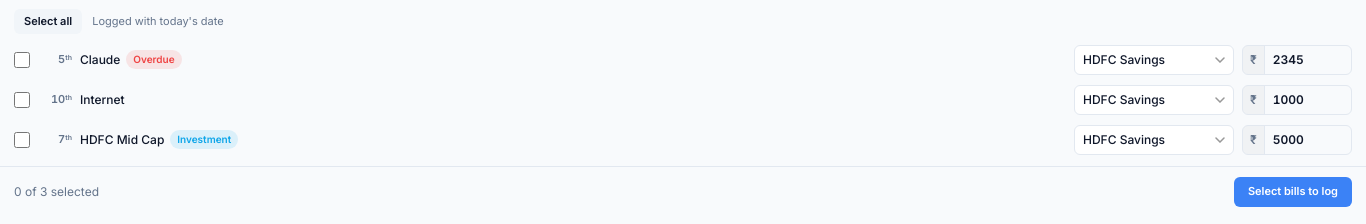
Test: BulkPayList › shows the selected count and total on the log button
The image size is (1366, 224).
Click the checkbox named "claude" at (22, 60), box [14,52,30,68]
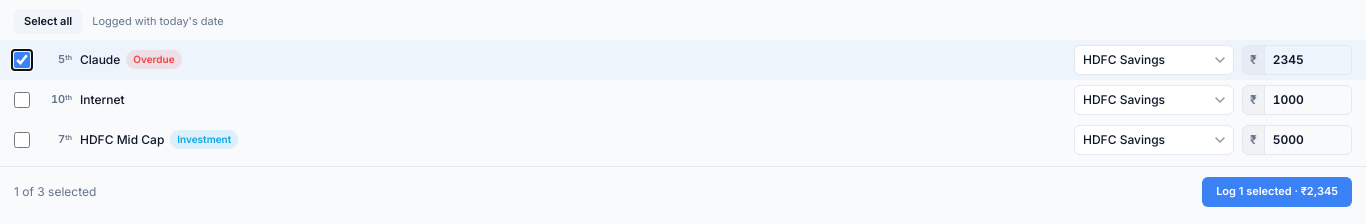
Click the checkbox named "internet" at (22, 100), box [14,92,30,108]
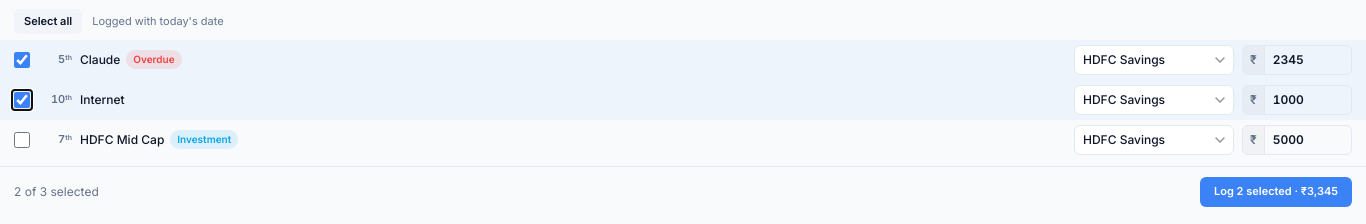
Result: the button "Log 2 selected · ₹3,345" is shown at [1200,176,1352,206]
